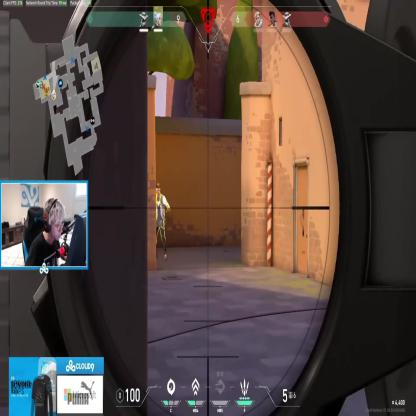enemy: (152, 184, 171, 260)
enemy_head: (156, 183, 160, 197)
